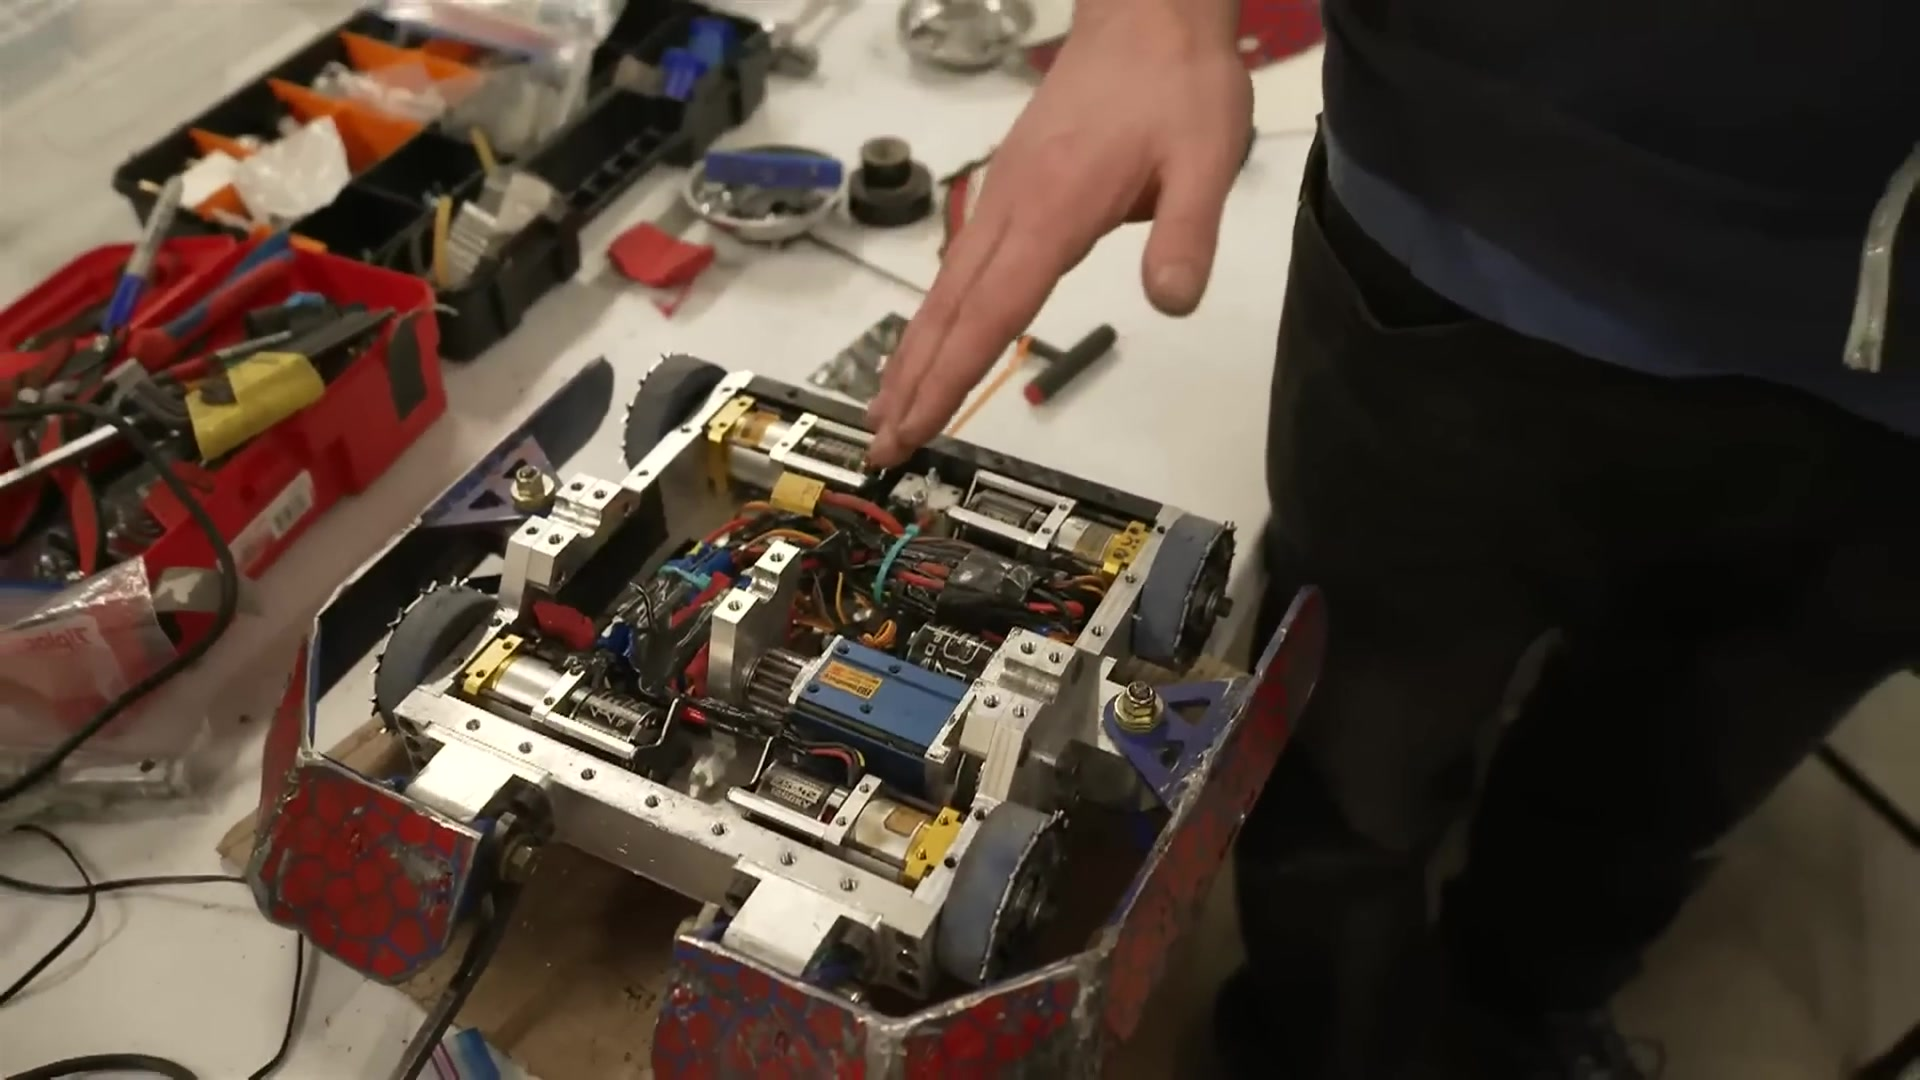combatbot: (246, 348, 1333, 1080)
